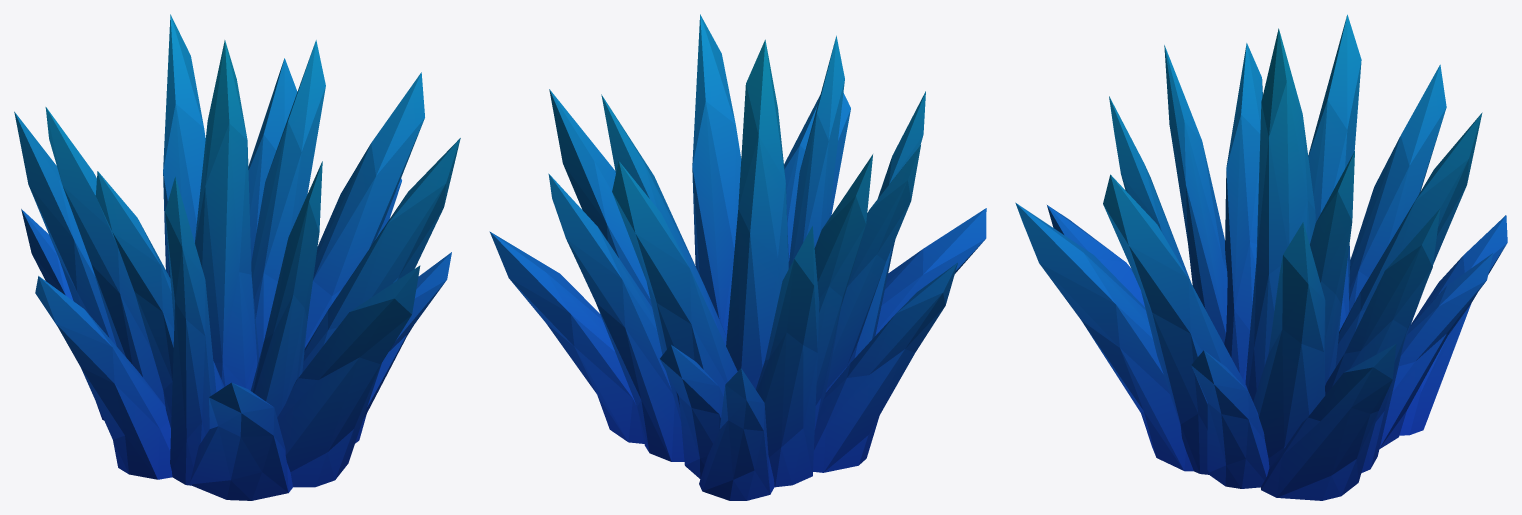
The model's file is Crystal_7.glb.
The picture shows the model from 3 angles, left to right: view 1: azimuth 30°, elevation 25°; view 2: azimuth 150°, elevation 25°; view 3: azimuth 270°, elevation 25°; orthographic projection. The views are drawn at different scales.
Visible parts, largest first — view 1: crystal_1; view 2: crystal_1; view 3: crystal_1.
Boxes of the visible parts, x1=… form: crystal_1: x1=14, y1=14, x2=460, y2=500; crystal_1: x1=489, y1=14, x2=986, y2=500; crystal_1: x1=1015, y1=14, x2=1507, y2=500.
Bounding box in the file's own units: 7.16 × 6.69 × 7.35.
